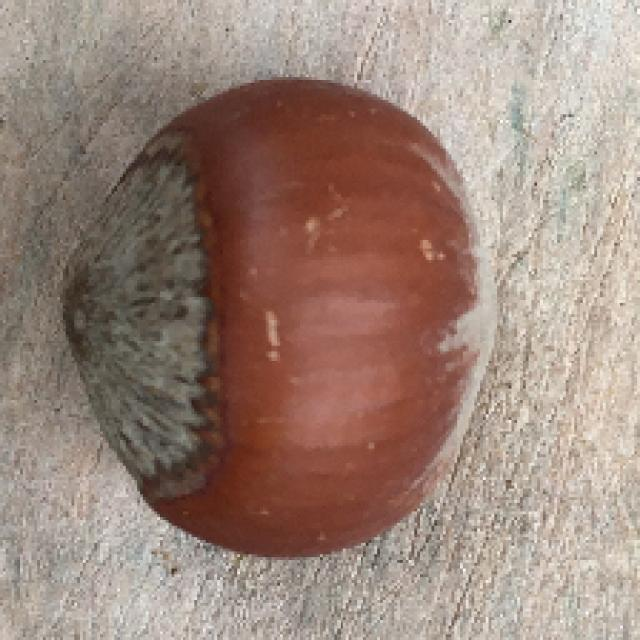qualityHazelnut: (66, 73, 505, 561)
